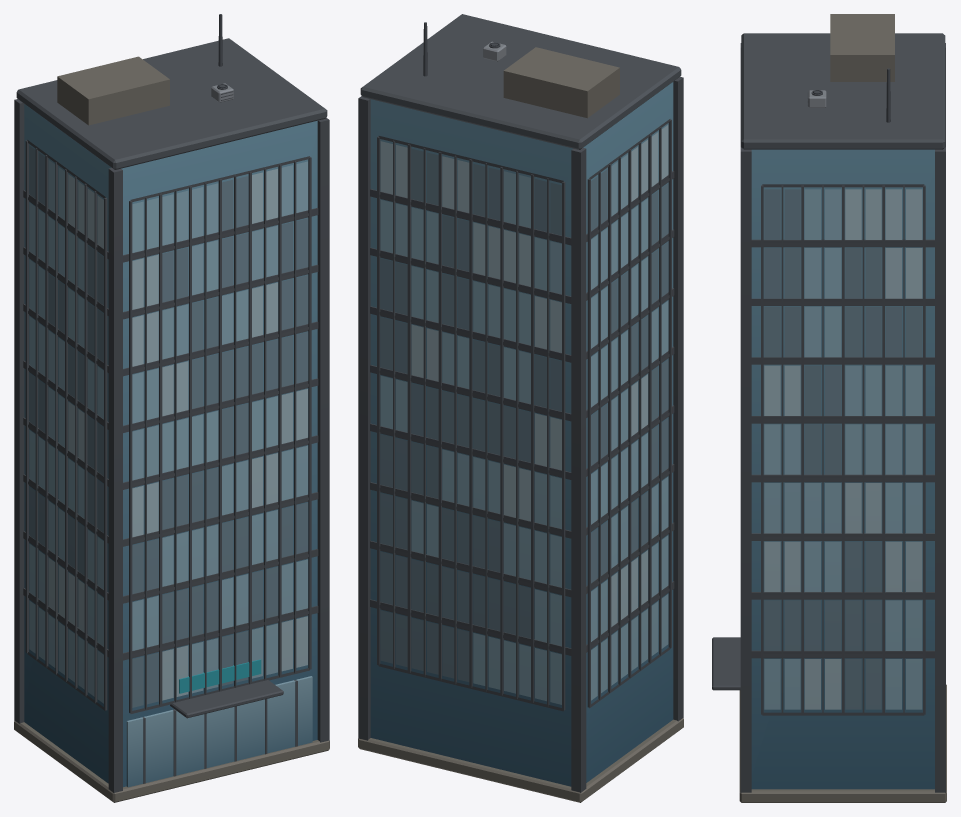
File: midrise-office-01.glb
3 views of the same model, side by side, from view 1: azimuth 30°, elevation 25°; view 2: azimuth 150°, elevation 25°; view 3: azimuth 270°, elevation 25° (orthographic). The views are drawn at different scales.
Parts seen in each view (by area): view 1: midrise_office_01; view 2: midrise_office_01; view 3: midrise_office_01.
Part boxes in pixels (x1,y1,x2,y2): midrise_office_01: [14, 14, 329, 802]; midrise_office_01: [358, 14, 683, 802]; midrise_office_01: [712, 14, 946, 802].
Size of the model in its own units: 8 by 24.38 by 7.25.
